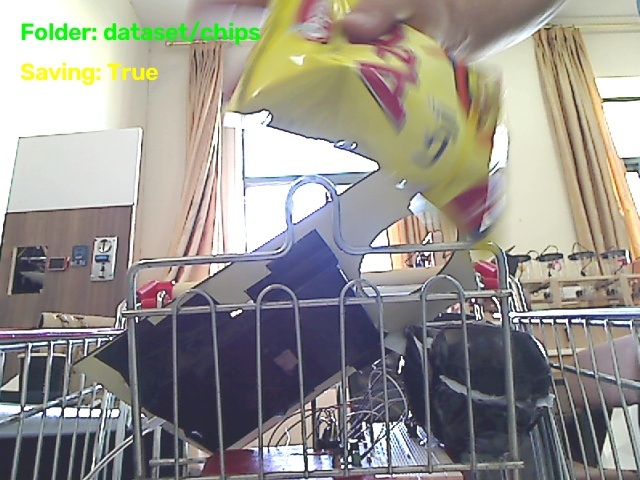chips: (228, 0, 502, 238)
